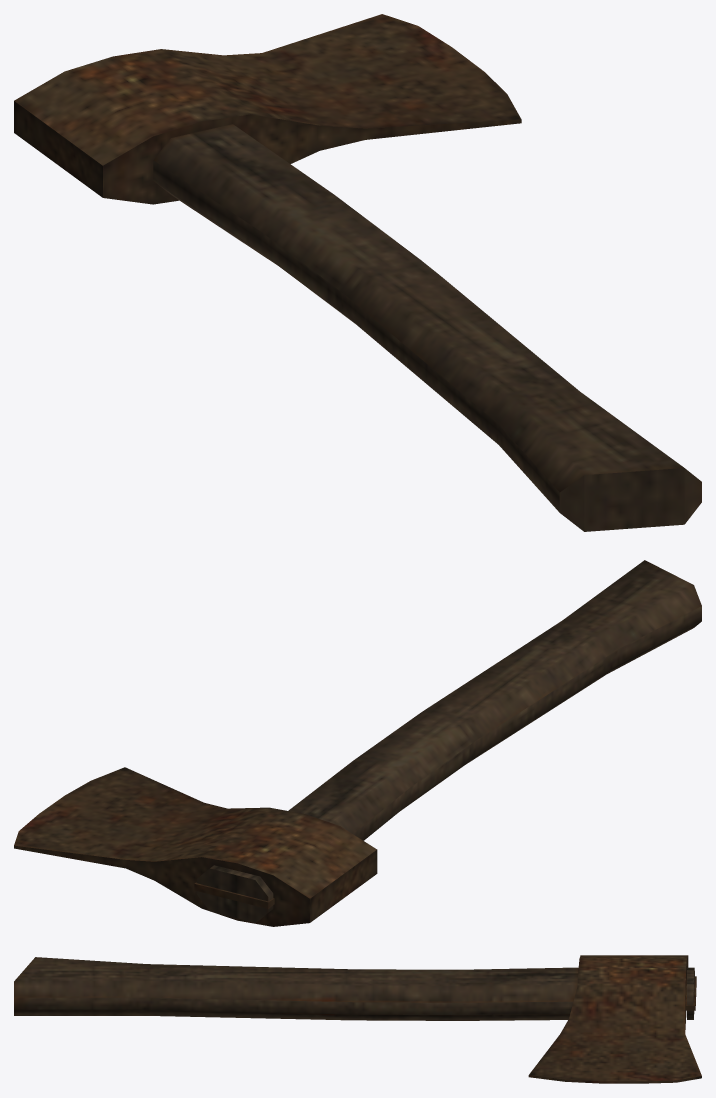
File: axe_mx_1_1.obj
3 renders of one model, top to bottom at view 1: azimuth 30°, elevation 25°; view 2: azimuth 150°, elevation 25°; view 3: azimuth 270°, elevation 25°, orthographic. The views are drawn at different scales.
Visible parts, largest first — view 1: axe_mx_1_1; view 2: axe_mx_1_1; view 3: axe_mx_1_1.
Boxes of the visible parts, x1,y1,x2,y2 form: axe_mx_1_1: (14, 14, 701, 531); axe_mx_1_1: (14, 560, 701, 926); axe_mx_1_1: (14, 955, 701, 1083).
Bounding box in the file's own units: 0.2641 × 0.048 × 0.6527.
